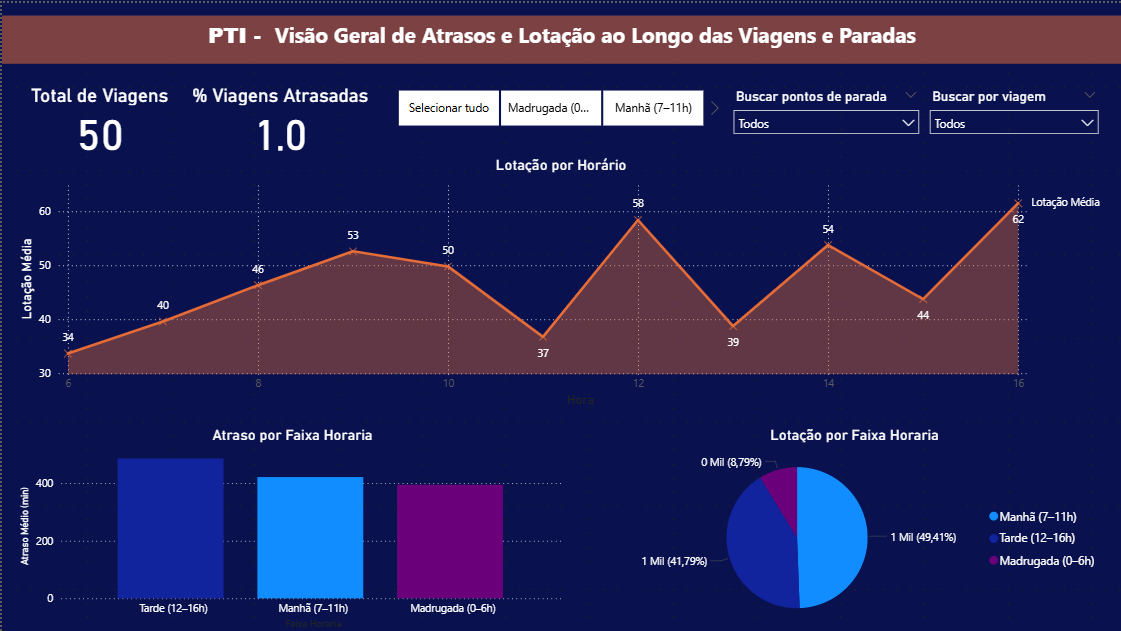

The dashboard page shown, as its layout file describes it:
{"tool":"powerbi","page":{"name":"PTI - MUSP","canvas":[1280,720],"ordinal":0},"visuals":[{"type":"clusteredColumnChart","title":"Atraso por Faixa Horaria","fields":{"Category":["dados_tratados.Faixa Horaria"],"Y":["dados_tratados.Atraso Médio (min)"]},"box":[16,482.5,632.6,237.5],"z":0},{"type":"lineChart","title":"Lotação  por Horário","fields":{"Category":["dados_tratados.Hora"],"Y":["dados_tratados.Lotação Média"]},"box":[16,174.8,1246.8,292.9],"z":1000},{"type":"card","title":"% Viagens Atrasadas","fields":{"Values":["dados_tratados.% Atrasadas"]},"box":[208,93.5,219.1,81.2],"z":2000},{"type":"pieChart","title":"Lotação por Faixa Horaria","fields":{"Category":["dados_tratados.Faixa Horaria"],"Y":["Sum(dados_tratados.lotacao)"]},"box":[685.5,482.5,577.2,237.5],"z":3000},{"type":"slicer","fields":{"Values":["dados_tratados.trip_id"]},"box":[1049.8,93.5,212.9,64],"z":4000},{"type":"card","title":"Total de Viagens","fields":{"Values":["dados_tratados.Total Viagens"]},"box":[16,93.5,192,81.2],"z":5000},{"type":"slicer","fields":{"Values":["dados_tratados.stop_id"]},"box":[825.8,93.5,232.6,64],"z":6000},{"type":"slicer","fields":{"Values":["dados_tratados.Faixa Horaria"]},"box":[427.1,93.5,398.8,54.2],"z":7000},{"type":"textbox","box":[0,14.8,1280,55.4],"z":7001}]}

Visuals, with their boxes in screenshot pixels (x1, y1, x2, y2), scaled from the page's 1280x720 canvas onto the 1121x631 screenshot:
"Atraso por Faixa Horaria" clusteredColumnChart: crop(14, 423, 568, 630)
"Lotação  por Horário" lineChart: crop(14, 153, 1106, 410)
"% Viagens Atrasadas" card: crop(182, 82, 374, 153)
"Lotação por Faixa Horaria" pieChart: crop(600, 423, 1106, 630)
slicer - dados_tratados.trip_id: crop(919, 82, 1106, 138)
"Total de Viagens" card: crop(14, 82, 182, 153)
slicer - dados_tratados.stop_id: crop(723, 82, 927, 138)
slicer - dados_tratados.Faixa Horaria: crop(374, 82, 723, 129)
textbox: crop(0, 13, 1120, 62)
